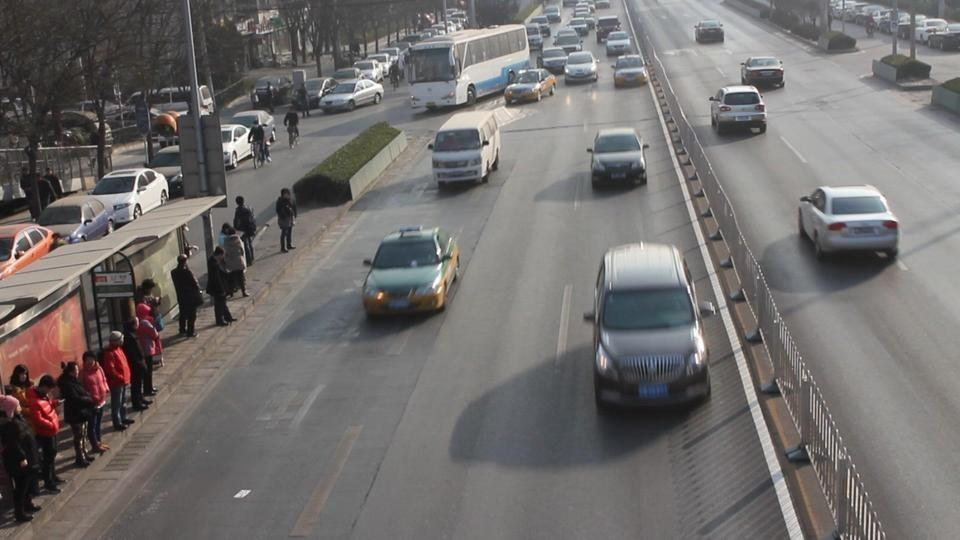car: (584, 240, 713, 414), (361, 225, 461, 317), (797, 185, 900, 262), (430, 110, 501, 187), (88, 168, 170, 225), (588, 126, 648, 191), (36, 194, 112, 244), (0, 221, 61, 279), (708, 85, 768, 136), (318, 79, 384, 114), (213, 124, 257, 170), (504, 68, 557, 105), (149, 145, 185, 198), (740, 55, 786, 92), (222, 108, 277, 138), (302, 77, 339, 112), (612, 55, 650, 89), (251, 76, 291, 108), (562, 52, 599, 85), (603, 31, 632, 56)
